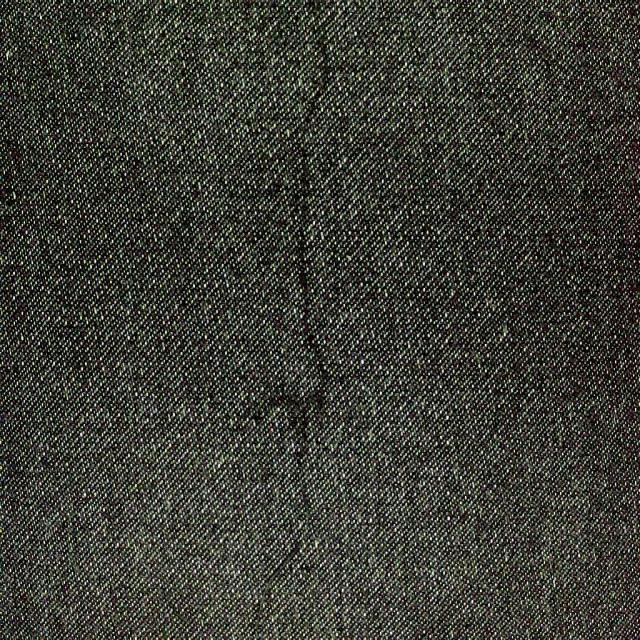defect: (291, 6, 352, 394)
